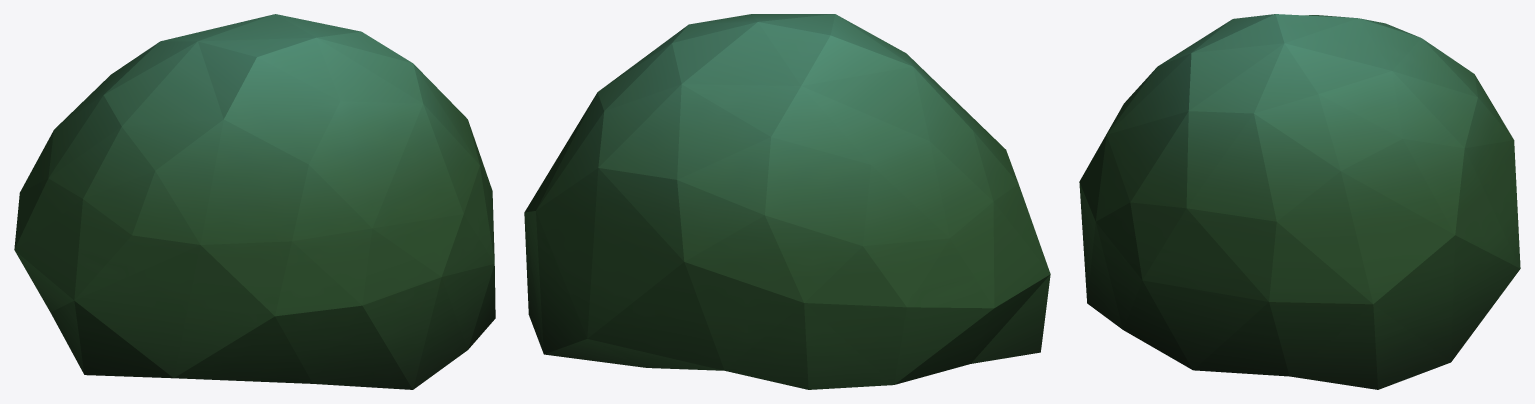
Rendered from Top_01_03.fbx.
3 views of the same model, side by side, from view 1: azimuth 30°, elevation 25°; view 2: azimuth 150°, elevation 25°; view 3: azimuth 270°, elevation 25° (orthographic). The views are drawn at different scales.
Parts seen in each view (by area): view 1: Top_01; view 2: Top_01; view 3: Top_01.
Part boxes in pixels (<box>): Top_01: <box>14,14,495,389</box>; Top_01: <box>524,14,1050,389</box>; Top_01: <box>1079,14,1520,389</box>.
Bounding box in the file's own units: 1.55 × 0.9564 × 1.42.
